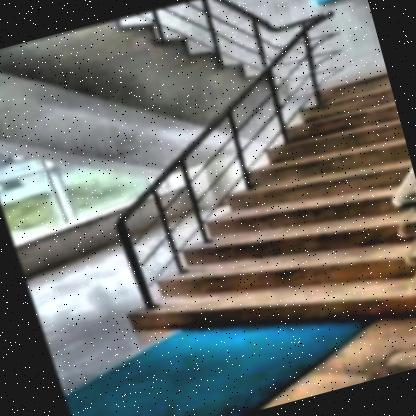stair: (82, 62, 416, 379)
